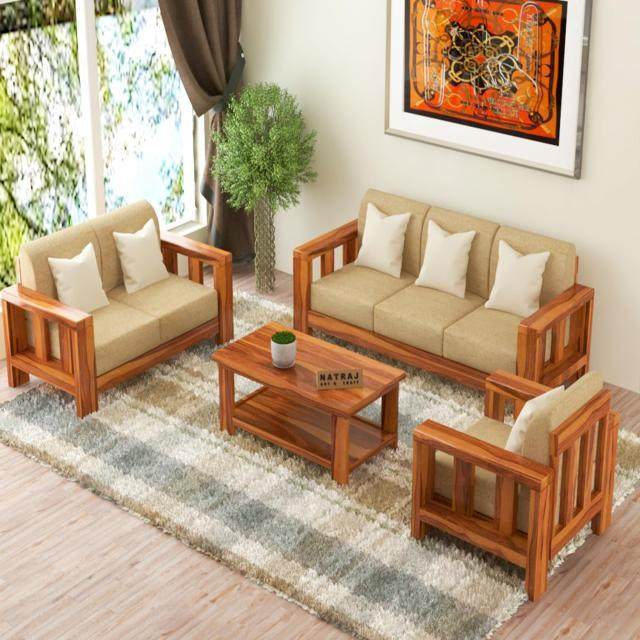sofa: (292, 187, 588, 402), (397, 363, 620, 606), (0, 198, 234, 419)
